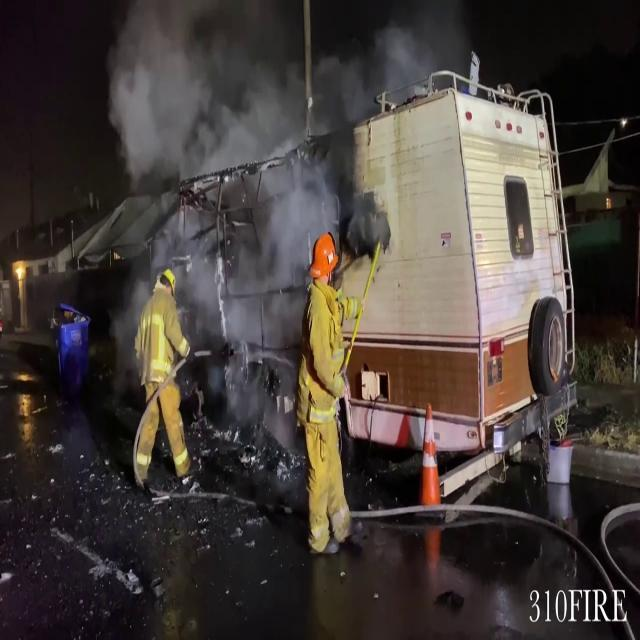Smoke: (98, 0, 382, 254)
